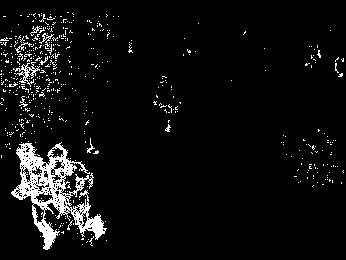person: (47, 143, 107, 237), (11, 142, 60, 250), (152, 73, 183, 134)
